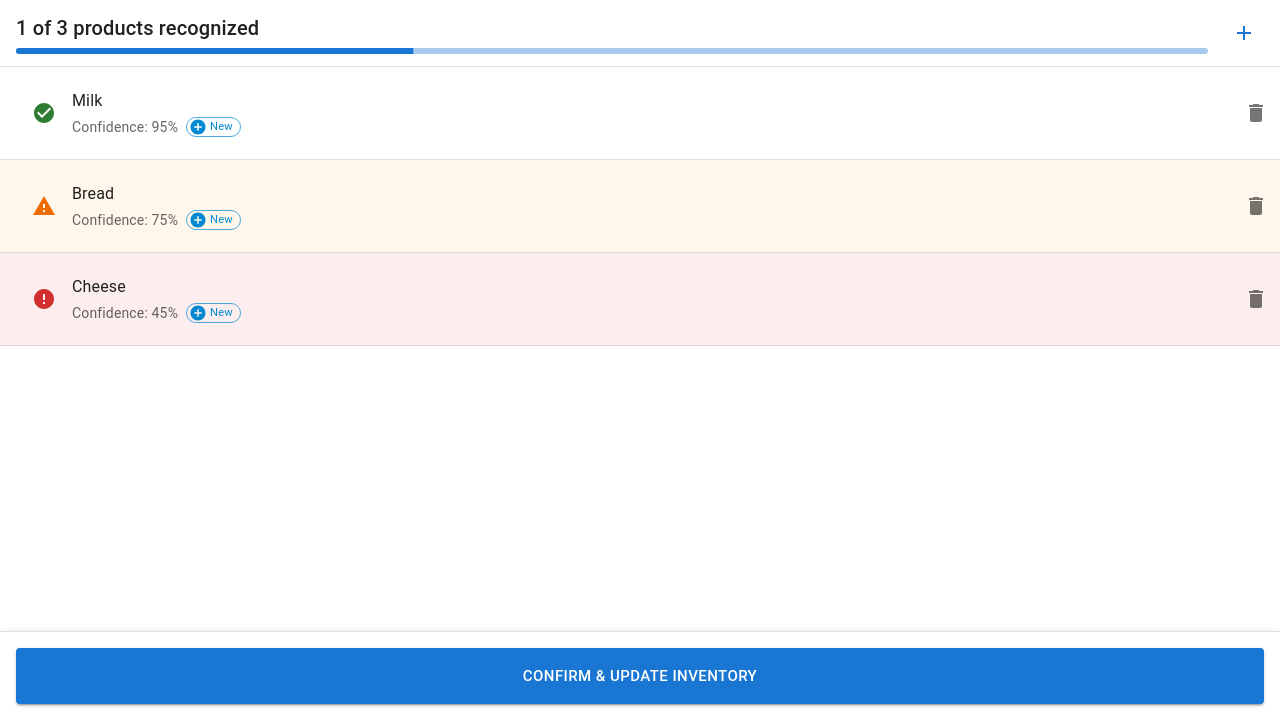
Test: ReceiptReview Component - Story 5.3 › Add Product › should open add product dialog when FAB is clicked
Step 1. Click the button named "add product" → x=1244, y=33, box [1224,13,1264,53]
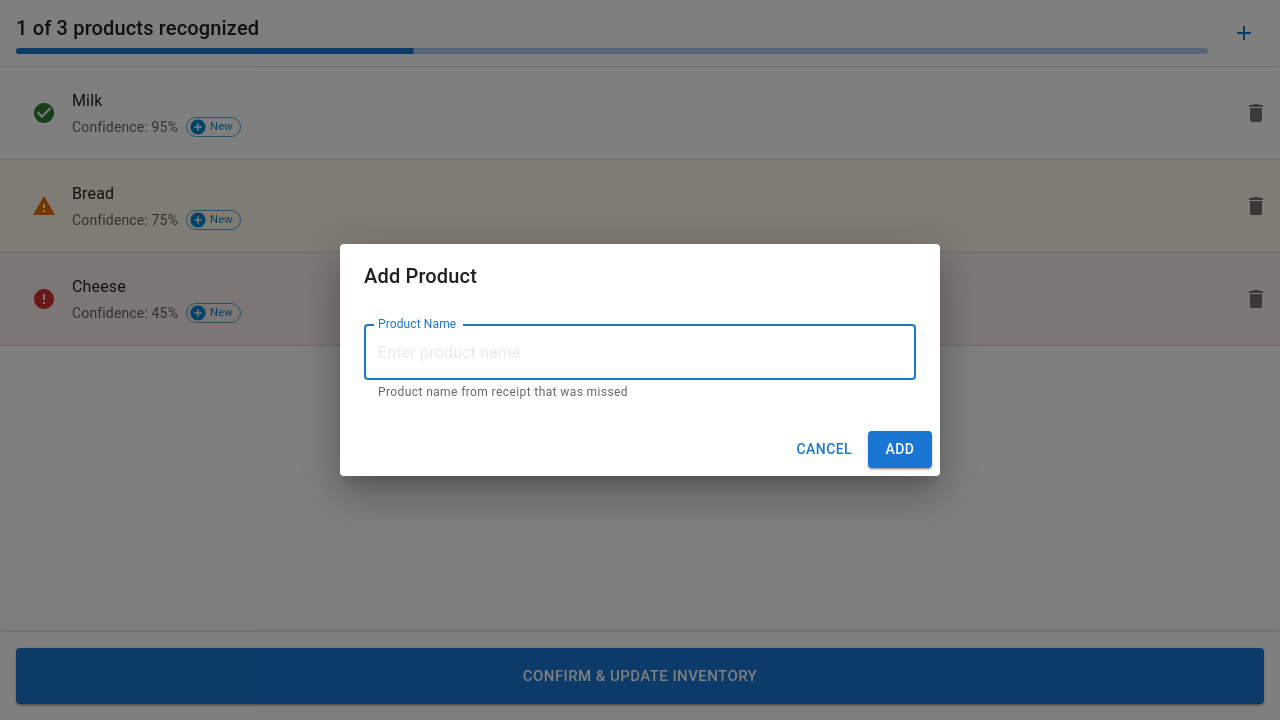
Now the heading "Add Product" is shown, box [364,264,477,288]
Now the field with placeholder "Enter product name" is shown, box [364,324,916,380]
